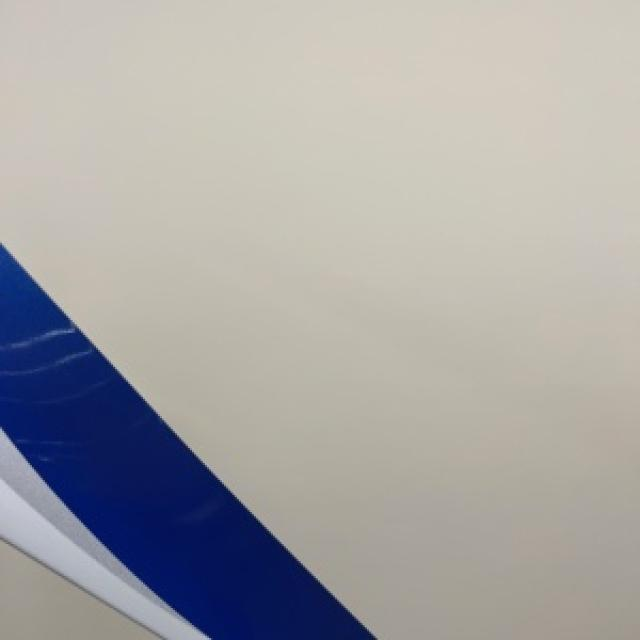healthy: (0, 243, 371, 638)
